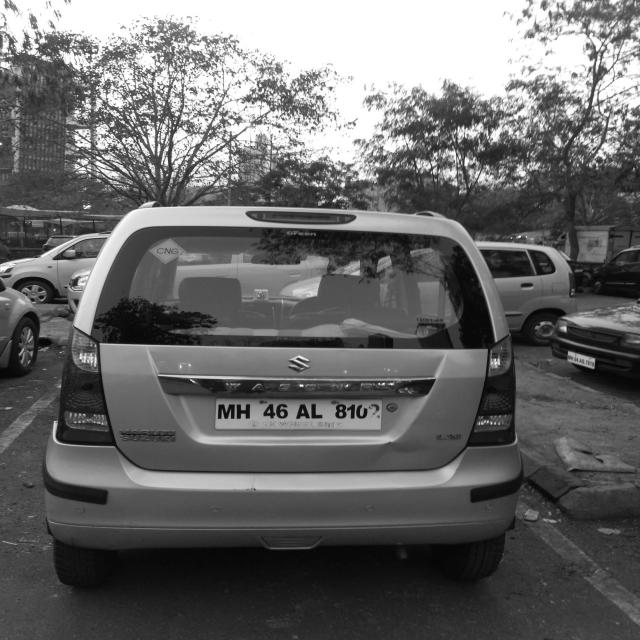car: (35, 198, 527, 588)
license-plate: (218, 398, 386, 432)
